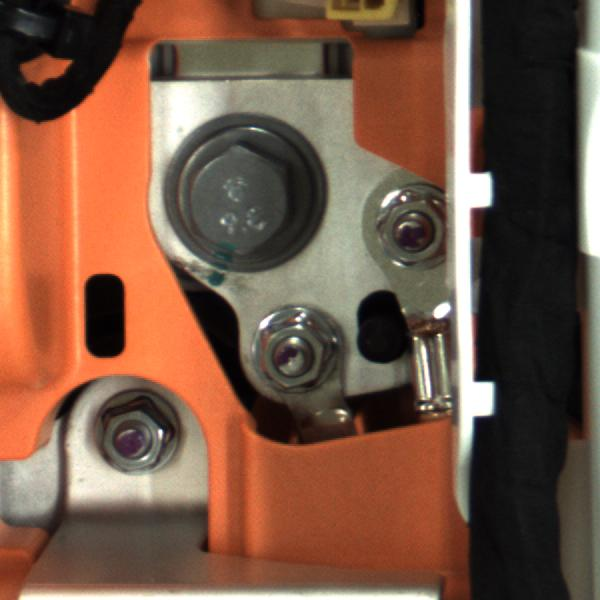nut_b: (161, 114, 325, 268)
screw_s: (252, 314, 343, 396), (96, 395, 177, 476), (372, 194, 439, 258)
